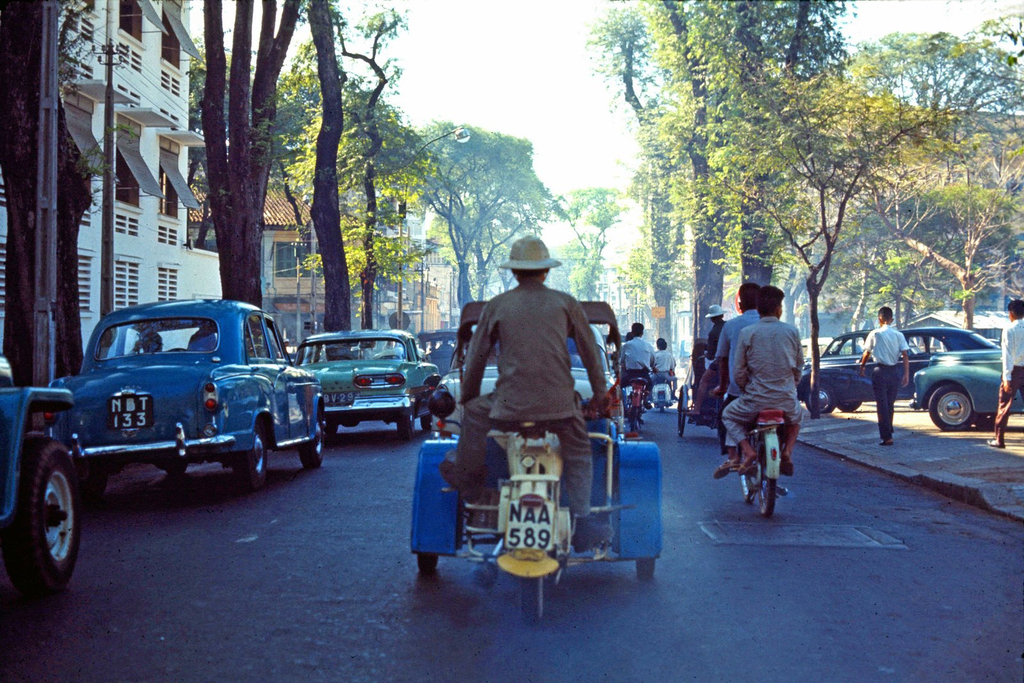Car: (26, 301, 311, 516), (448, 299, 624, 446), (0, 349, 80, 584), (796, 323, 998, 413), (292, 325, 439, 435), (910, 346, 1023, 432)
